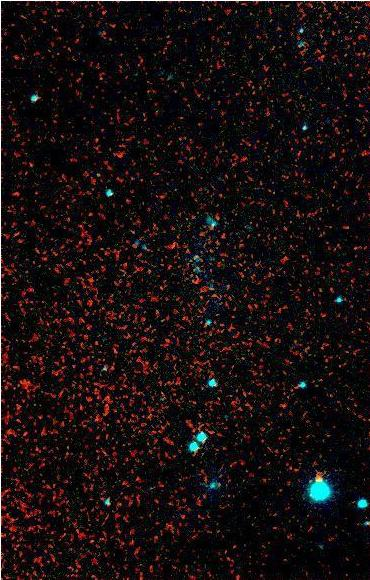star: (303, 466, 333, 496)
